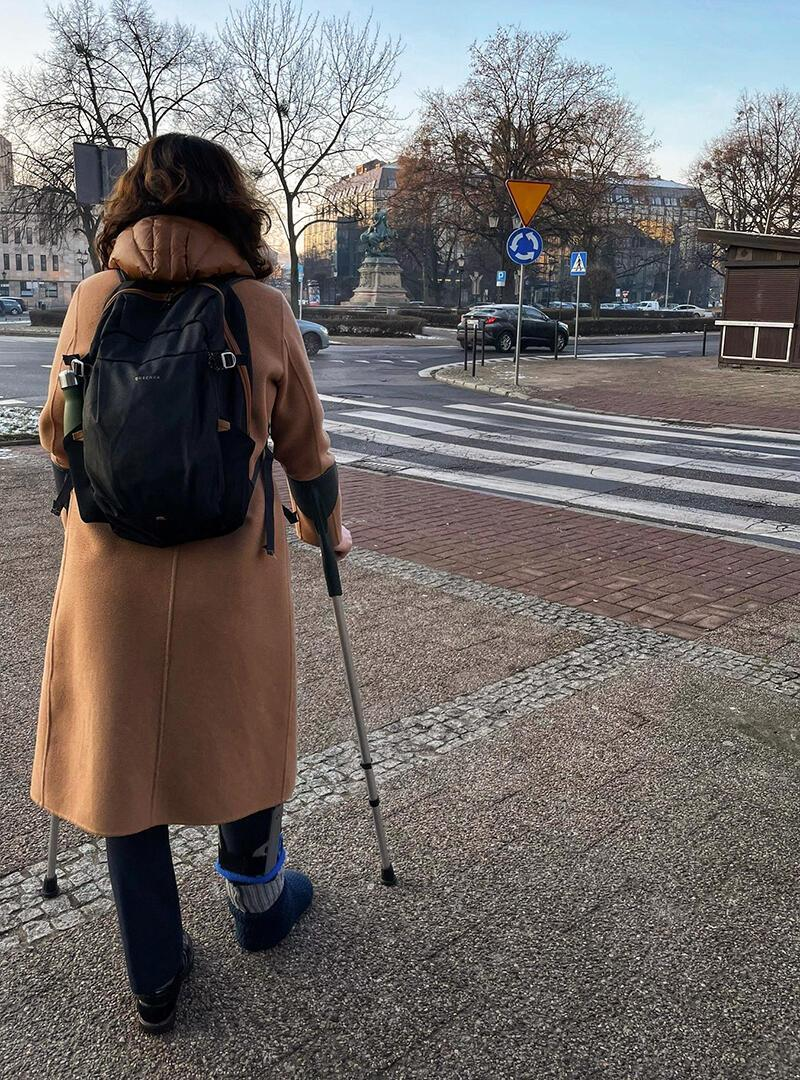crutches: (18, 95, 415, 1045)
